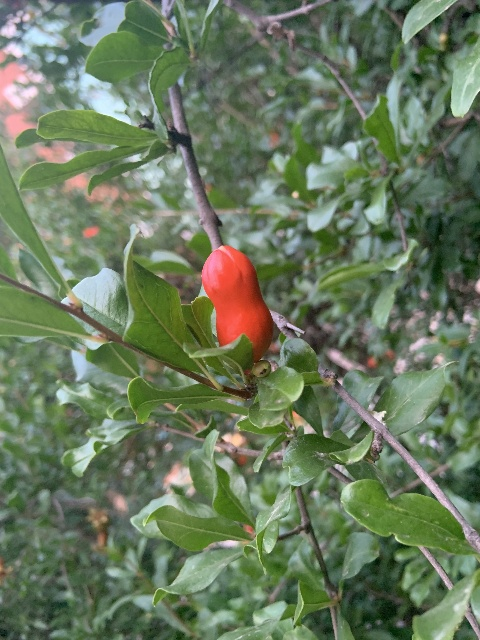bud: (201, 244, 273, 361), (250, 360, 271, 378)
